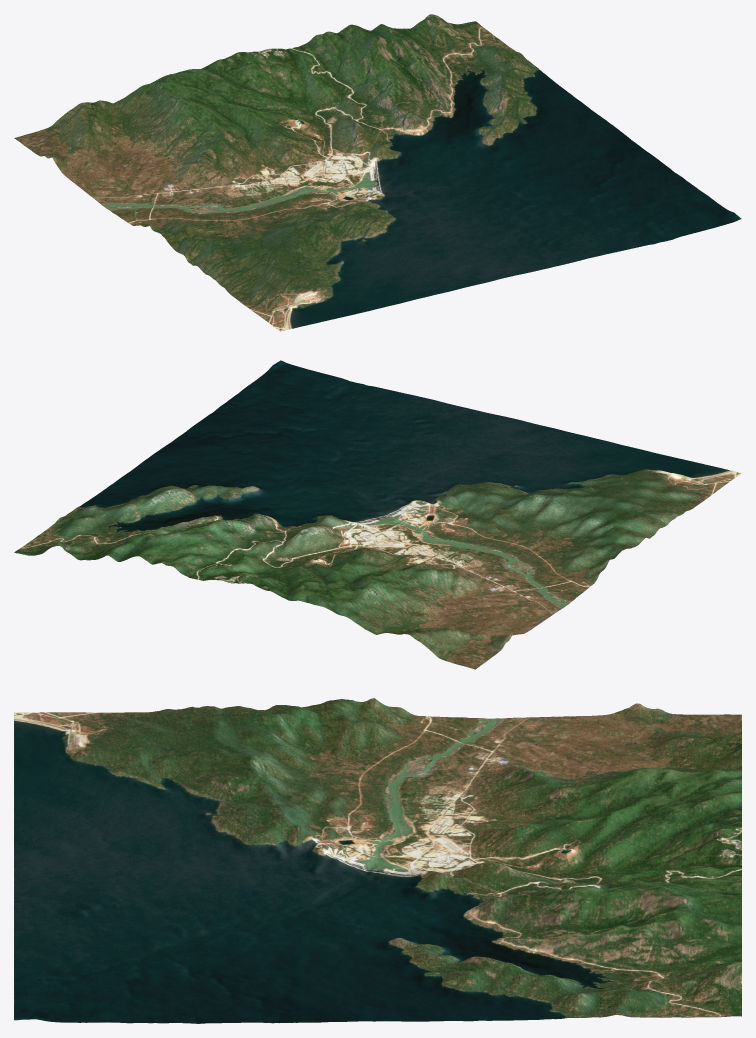
File: terrain.glb
The picture shows the model from 3 angles, top to bottom: view 1: azimuth 30°, elevation 25°; view 2: azimuth 150°, elevation 25°; view 3: azimuth 270°, elevation 25°; orthographic projection. The views are drawn at different scales.
Bounding box in the file's own units: 12000 × 951 × 12000.
1 material, 1 textured.
